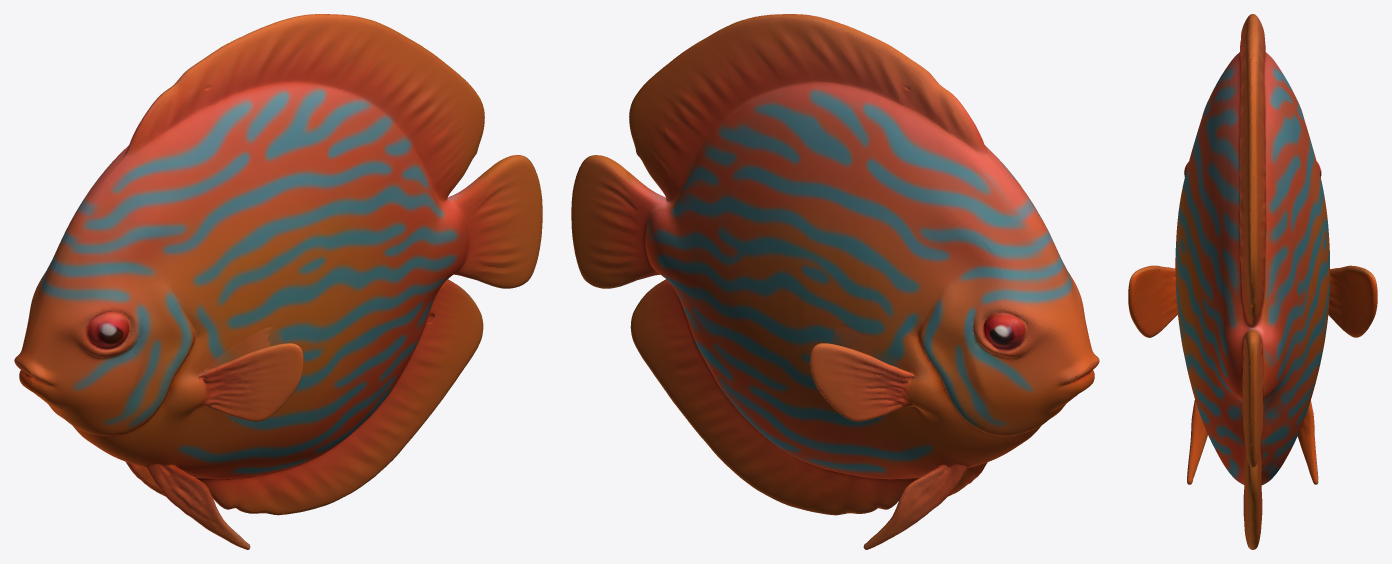
3 renders of one model, left to right at view 1: azimuth 30°, elevation 25°; view 2: azimuth 150°, elevation 25°; view 3: azimuth 270°, elevation 25°, orthographic.
Visible parts, largest first — view 1: geometry_0; view 2: geometry_0; view 3: geometry_0.
Part boxes in pixels (<box>): geometry_0: <box>14,14,542,549</box>; geometry_0: <box>571,14,1099,549</box>; geometry_0: <box>1128,14,1377,549</box>.
Bounding box in the file's own units: 0.15 × 0.1365 × 0.063.
1 material, 1 textured.
